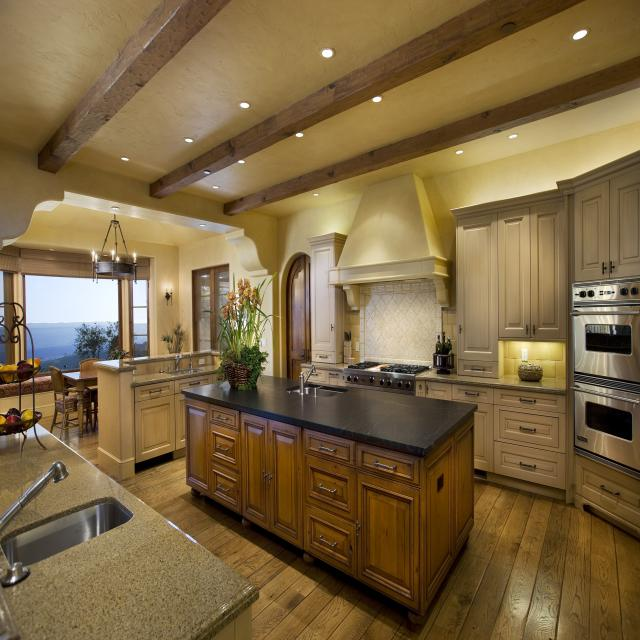Appliance_Oven: (572, 275, 640, 384), (575, 372, 640, 475), (344, 361, 428, 396)
Appliance_Sink: (1, 497, 133, 587), (0, 461, 68, 531)
Cabinet_Raised_Panel: (132, 163, 640, 614), (575, 455, 640, 542), (307, 236, 343, 389)
Countertop_Concrete: (183, 376, 477, 457)
Countertop_Granite: (0, 425, 261, 640), (99, 350, 214, 370), (133, 366, 218, 384), (441, 375, 498, 383), (315, 364, 347, 370)
